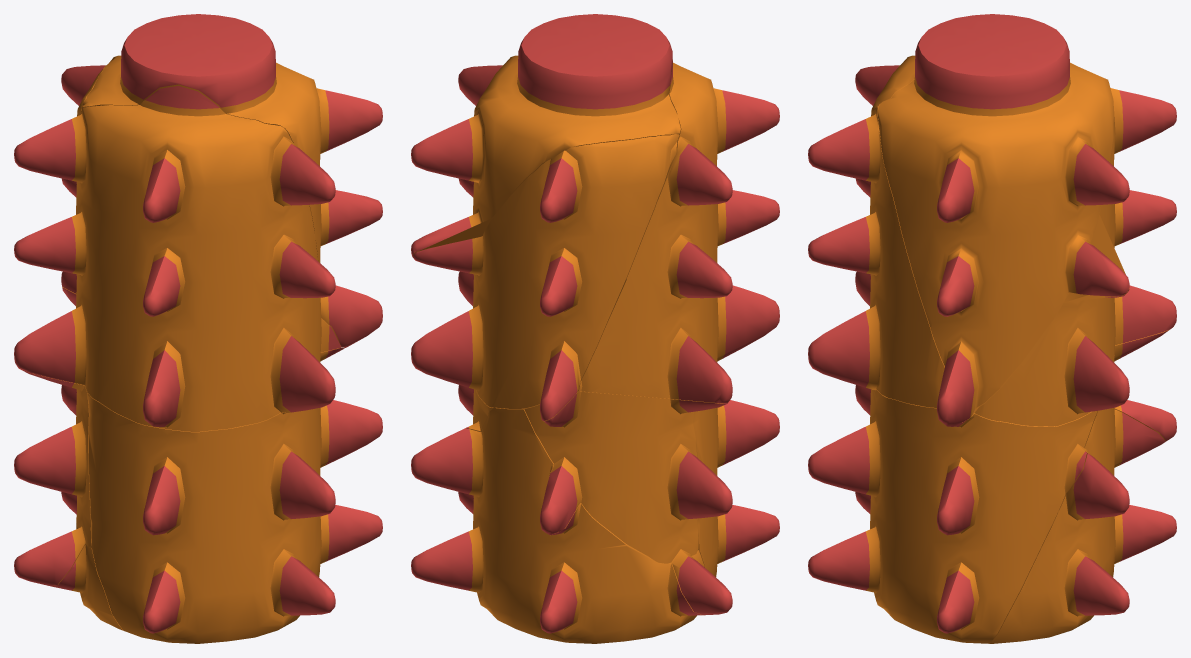
The model's file is Engel02.fbx.
3 renders of one model, left to right at view 1: azimuth 30°, elevation 25°; view 2: azimuth 150°, elevation 25°; view 3: azimuth 270°, elevation 25°, orthographic.
Visible parts, largest first — view 1: Engel02_cell.003, Engel02_cell.002, Engel02_cell.004_cell.001, Engel02_cell, Engel02_cell.001, Engel02_cell.004_cell; view 2: Engel02_cell.004_cell, Engel02_cell.003, Engel02_cell.001, Engel02_cell.004_cell.001, Engel02_cell, Engel02_cell.002; view 3: Engel02_cell.004_cell.001, Engel02_cell.002, Engel02_cell.003, Engel02_cell.004_cell, Engel02_cell.001, Engel02_cell.
Boxes of the visible parts, box(x1,y1,x2,y2) form: Engel02_cell.003: box(14, 86, 341, 431); Engel02_cell.002: box(87, 347, 382, 643); Engel02_cell.004_cell.001: box(81, 14, 382, 347); Engel02_cell: box(14, 287, 91, 586); Engel02_cell.001: box(51, 492, 122, 630); Engel02_cell.004_cell: box(61, 65, 105, 293); Engel02_cell.004_cell: box(411, 134, 679, 420); Engel02_cell.003: box(578, 60, 779, 403); Engel02_cell.001: box(411, 407, 704, 643); Engel02_cell.004_cell.001: box(411, 14, 680, 305); Engel02_cell: box(524, 391, 732, 615); Engel02_cell.002: box(458, 385, 779, 576); Engel02_cell.004_cell.001: box(878, 14, 1129, 426); Engel02_cell.002: box(808, 385, 1097, 643); Engel02_cell.003: box(808, 55, 944, 407); Engel02_cell.004_cell: box(974, 88, 1176, 426); Engel02_cell.001: box(990, 407, 1176, 643); Engel02_cell: box(1114, 327, 1176, 442).
Bounding box in the file's own units: 148 × 246 × 148.
